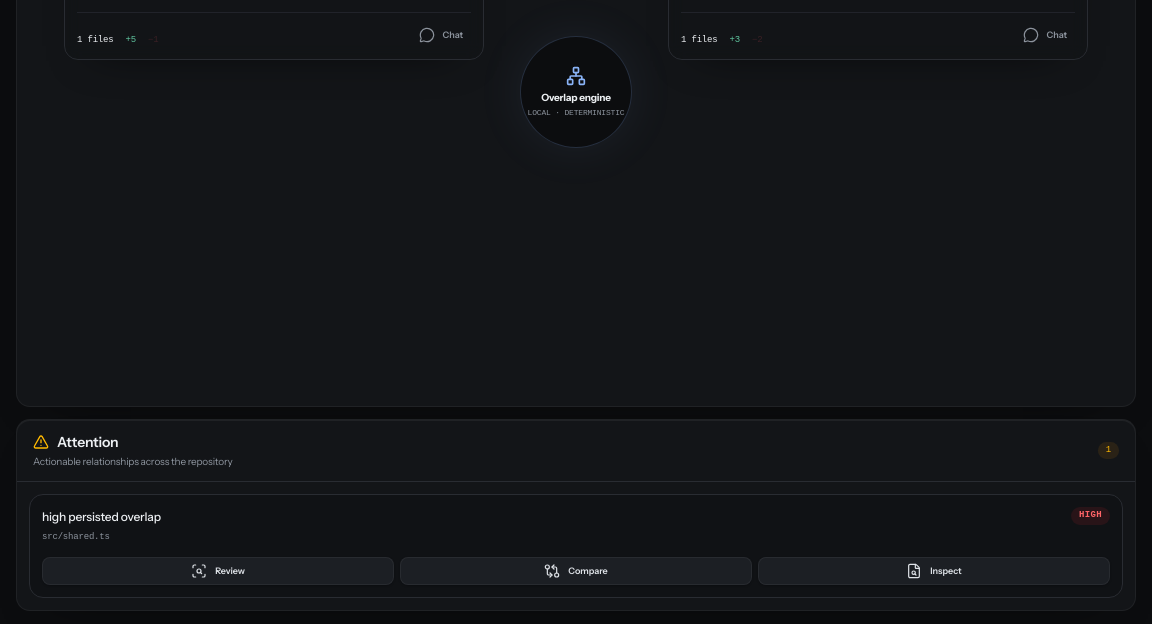
Test: Intelligence conflict page › defaults to the repository overview and opens conflict review from Attention
This screenshot has width=1152, height=624.
(page scrolled)
expect the heading "Attention" is shown: met, box [33,433,118,451]
Click the button with aria-label "Review overlap" at (218, 570), box [42,556,394,584]
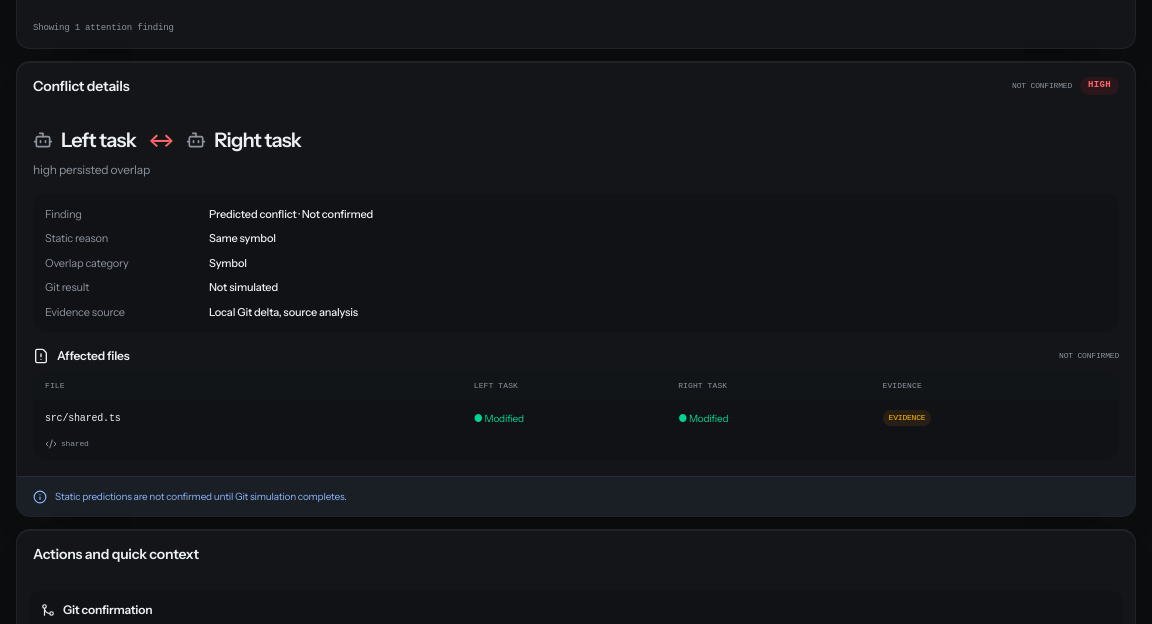
expect the heading "Conflict details" is shown: met, box [33,76,130,96]
expect the text "high persisted overlap" is shown 2 times: met
